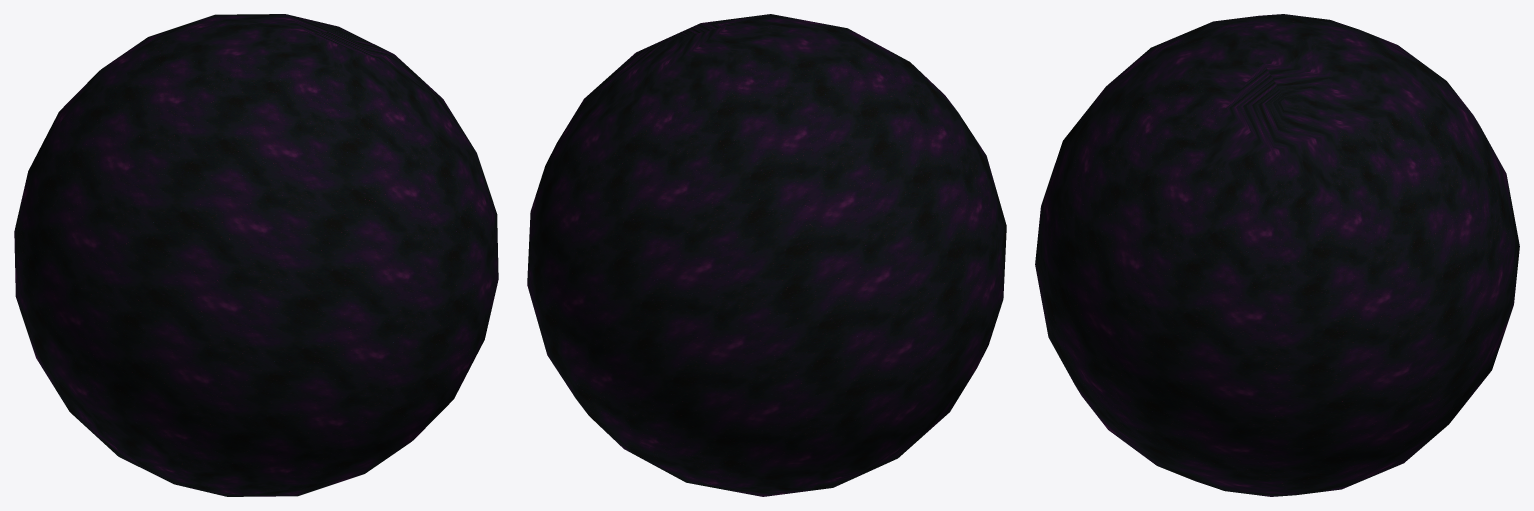
Rendered from Cutscene Space Skybox.fbx.
The picture shows the model from 3 angles, left to right: view 1: azimuth 30°, elevation 25°; view 2: azimuth 150°, elevation 25°; view 3: azimuth 270°, elevation 25°; orthographic projection.
Parts seen in each view (by area): view 1: SkyStarMesh; view 2: SkyStarMesh; view 3: SkyStarMesh.
Boxes of the visible parts, x1,y1,x2,y2 form: SkyStarMesh: (14,14,498,496); SkyStarMesh: (527,14,1006,496); SkyStarMesh: (1035,14,1519,496).
Bounding box in the file's own units: 2282 × 2271 × 2284.
Materials: 1 (1 with a texture image).
